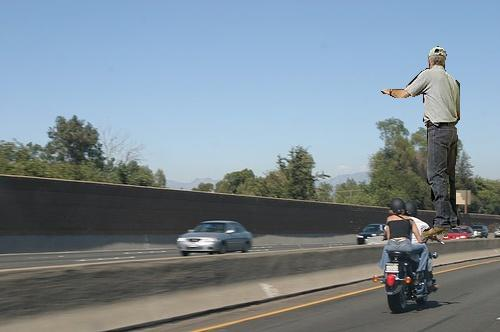tampered: (382, 47, 460, 237)
